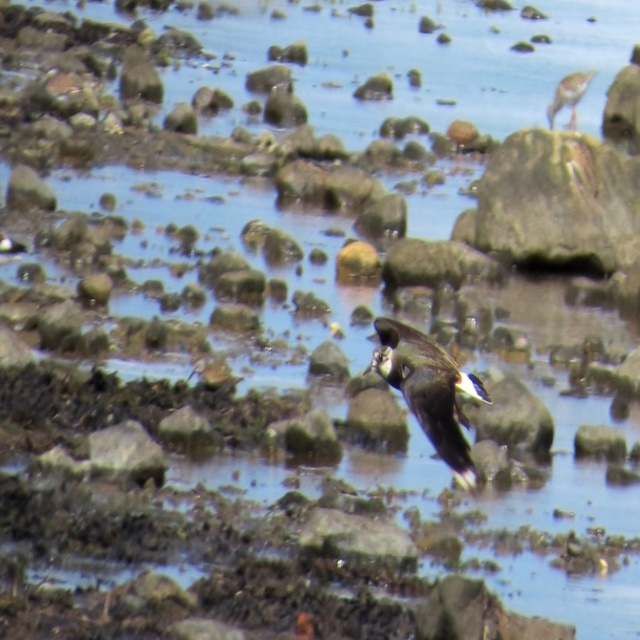Duck: (363, 314, 492, 499), (543, 63, 599, 125)
